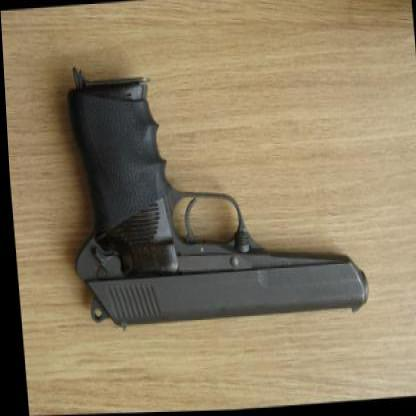pistol: (58, 66, 370, 335)
